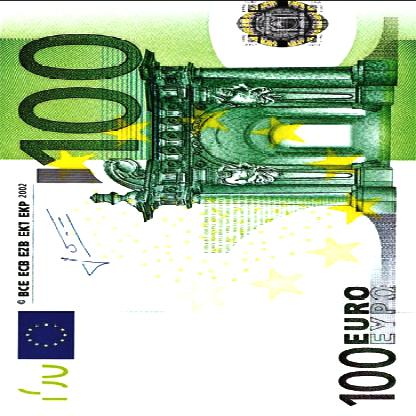euro_banknote: (2, 2, 416, 411)
